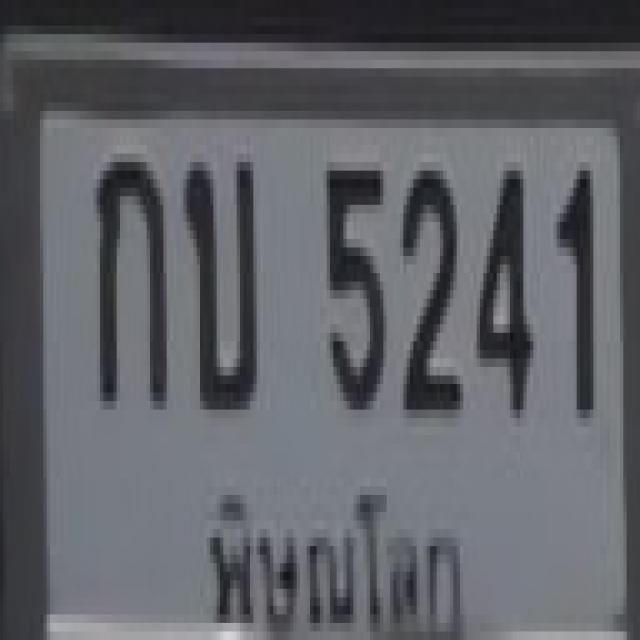1: (553, 162, 590, 410)
2: (400, 162, 457, 410)
4: (473, 153, 530, 410)
5: (324, 154, 384, 401)
A01: (94, 145, 164, 401)
A26: (180, 150, 253, 406)
PLK: (198, 471, 472, 633)
